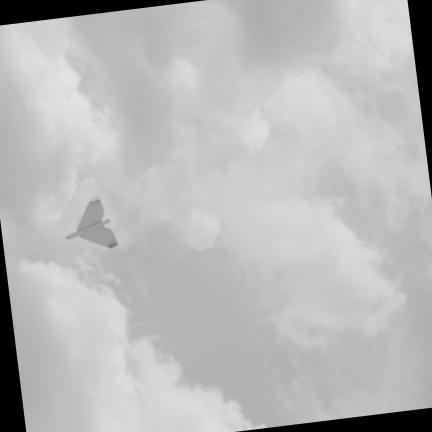Shahed: (65, 197, 117, 248)
